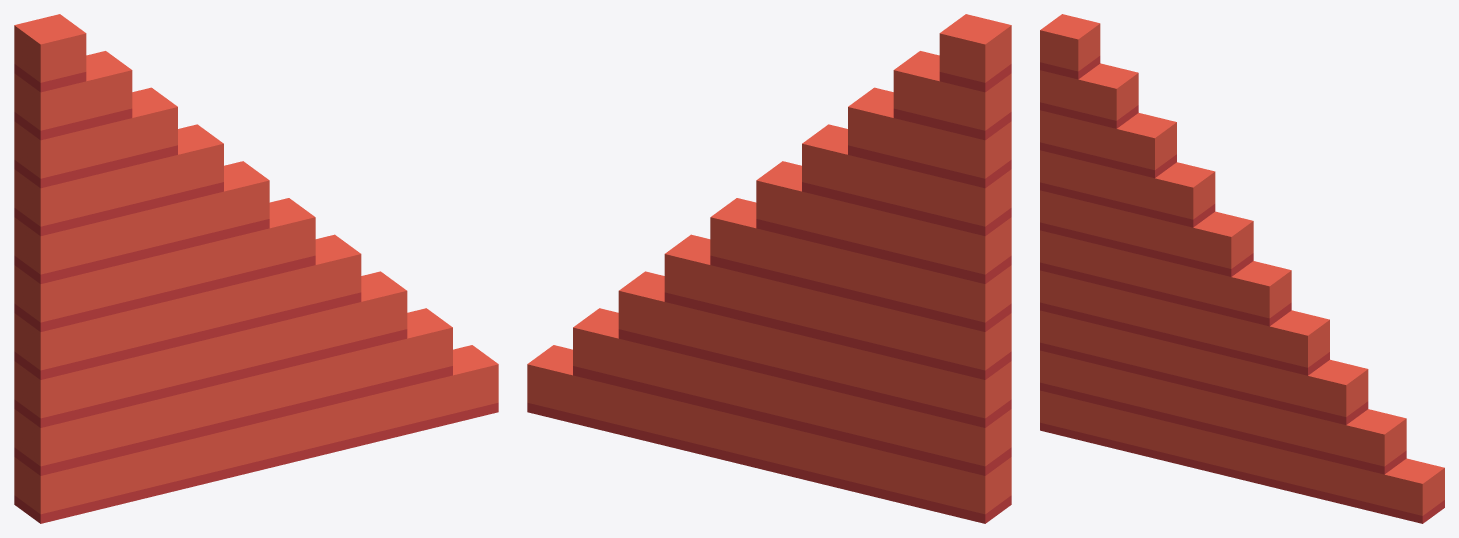
File: Ladder.fbx
The picture shows the model from 3 angles, left to right: view 1: azimuth 30°, elevation 25°; view 2: azimuth 150°, elevation 25°; view 3: azimuth 330°, elevation 25°; orthographic projection. The views are drawn at different scales.
Parts seen in each view (by area): view 1: mergedBlocks; view 2: mergedBlocks; view 3: mergedBlocks.
Part boxes in pixels (x1,y1,x2,y2): mergedBlocks: (14,14,498,523); mergedBlocks: (527,14,1011,523); mergedBlocks: (1040,14,1444,523).
Size of the model in its own units: 100 by 100 by 10.
